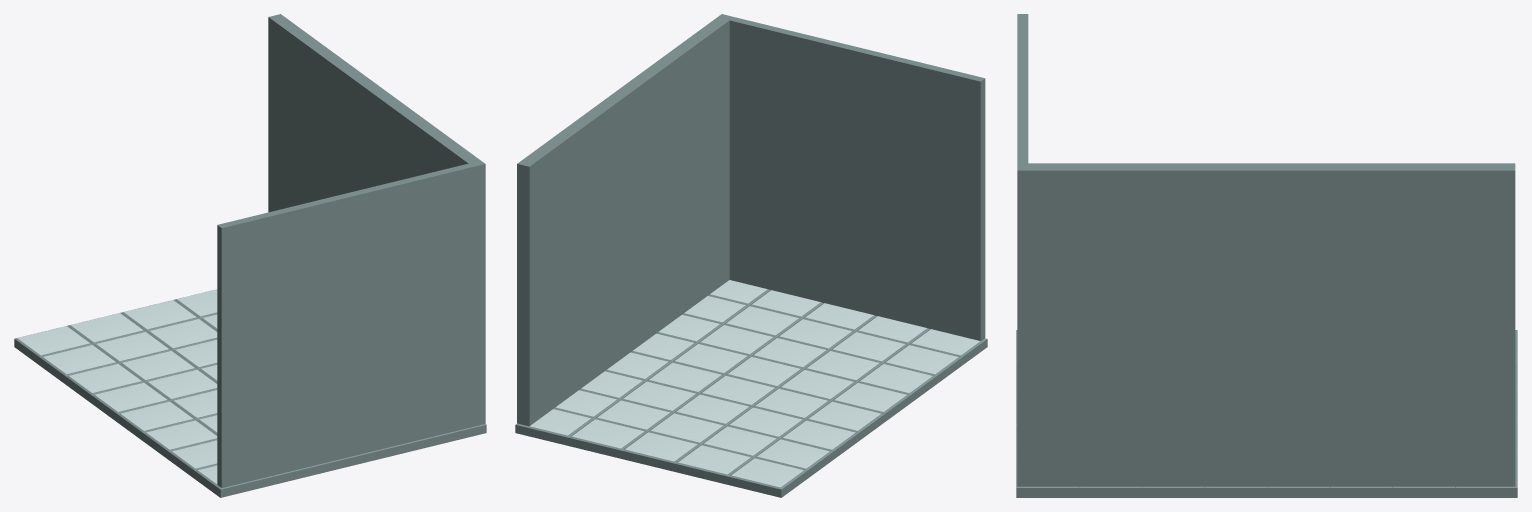
Rendered from ROOM.fbx.
3 renders of one model, left to right at view 1: azimuth 30°, elevation 25°; view 2: azimuth 150°, elevation 25°; view 3: azimuth 270°, elevation 25°, orthographic. The views are drawn at different scales.
Visible parts, largest first — view 1: WALL, FLOOR; view 2: WALL, FLOOR; view 3: WALL, FLOOR.
Part boxes in pixels (left/top/right/bottom): WALL: left=217, top=14, right=485, bottom=487; FLOOR: left=14, top=289, right=486, bottom=497; WALL: left=517, top=14, right=985, bottom=426; FLOOR: left=515, top=280, right=987, bottom=497; WALL: left=1017, top=14, right=1515, bottom=486; FLOOR: left=1016, top=330, right=1517, bottom=497.
Bounding box in the file's own units: 211 × 204 × 283.
